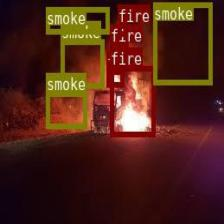fire: (110, 66, 154, 135), (109, 42, 127, 60), (106, 69, 124, 86), (117, 22, 127, 36)
smoke: (152, 3, 212, 84), (60, 39, 104, 87), (46, 6, 108, 32), (45, 91, 86, 128)
